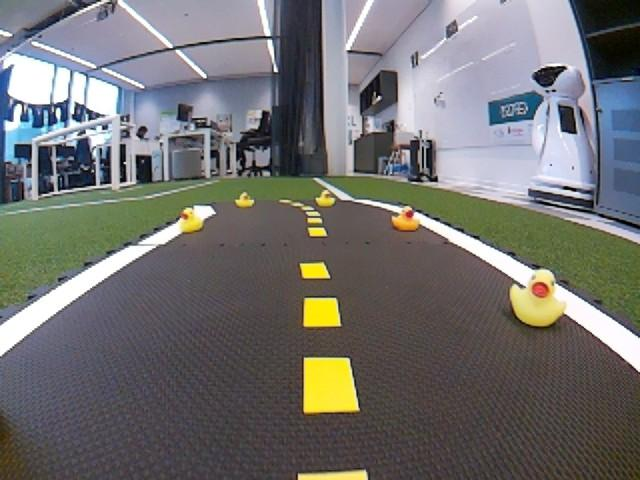Duckies: (509, 269, 565, 326), (391, 207, 420, 231), (181, 208, 203, 231), (316, 190, 335, 207), (236, 191, 253, 207)
